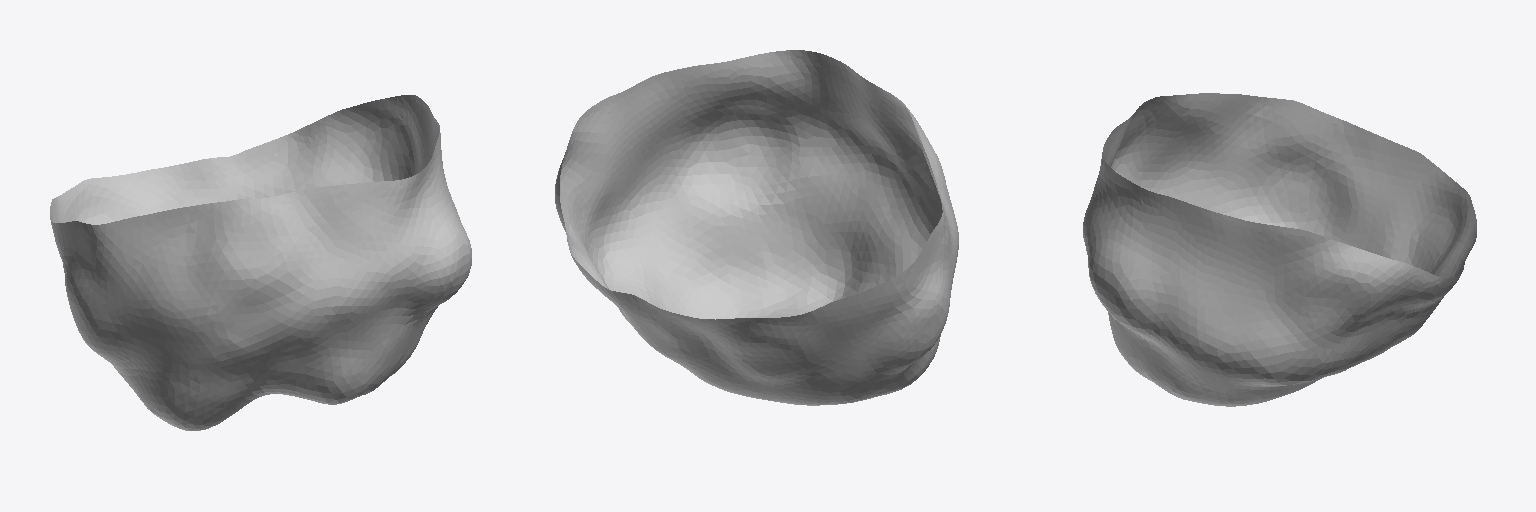
File: Paciente3_ses_flex.obj
3 views of the same model, side by side, from view 1: azimuth 30°, elevation 25°; view 2: azimuth 150°, elevation 25°; view 3: azimuth 270°, elevation 25° (orthographic).
Parts seen in each view (by area): view 1: Paciente_3_ses_flex; view 2: Paciente_3_ses_flex; view 3: Paciente_3_ses_flex.
Boxes of the visible parts, box(x1,y1,x2,y2) form: Paciente_3_ses_flex: box(50, 95, 471, 430); Paciente_3_ses_flex: box(555, 50, 958, 405); Paciente_3_ses_flex: box(1083, 93, 1476, 406).
Bounding box in the file's own units: 13.71 × 9.75 × 13.35.